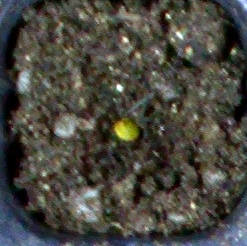chilli seed: (113, 118, 138, 141)
